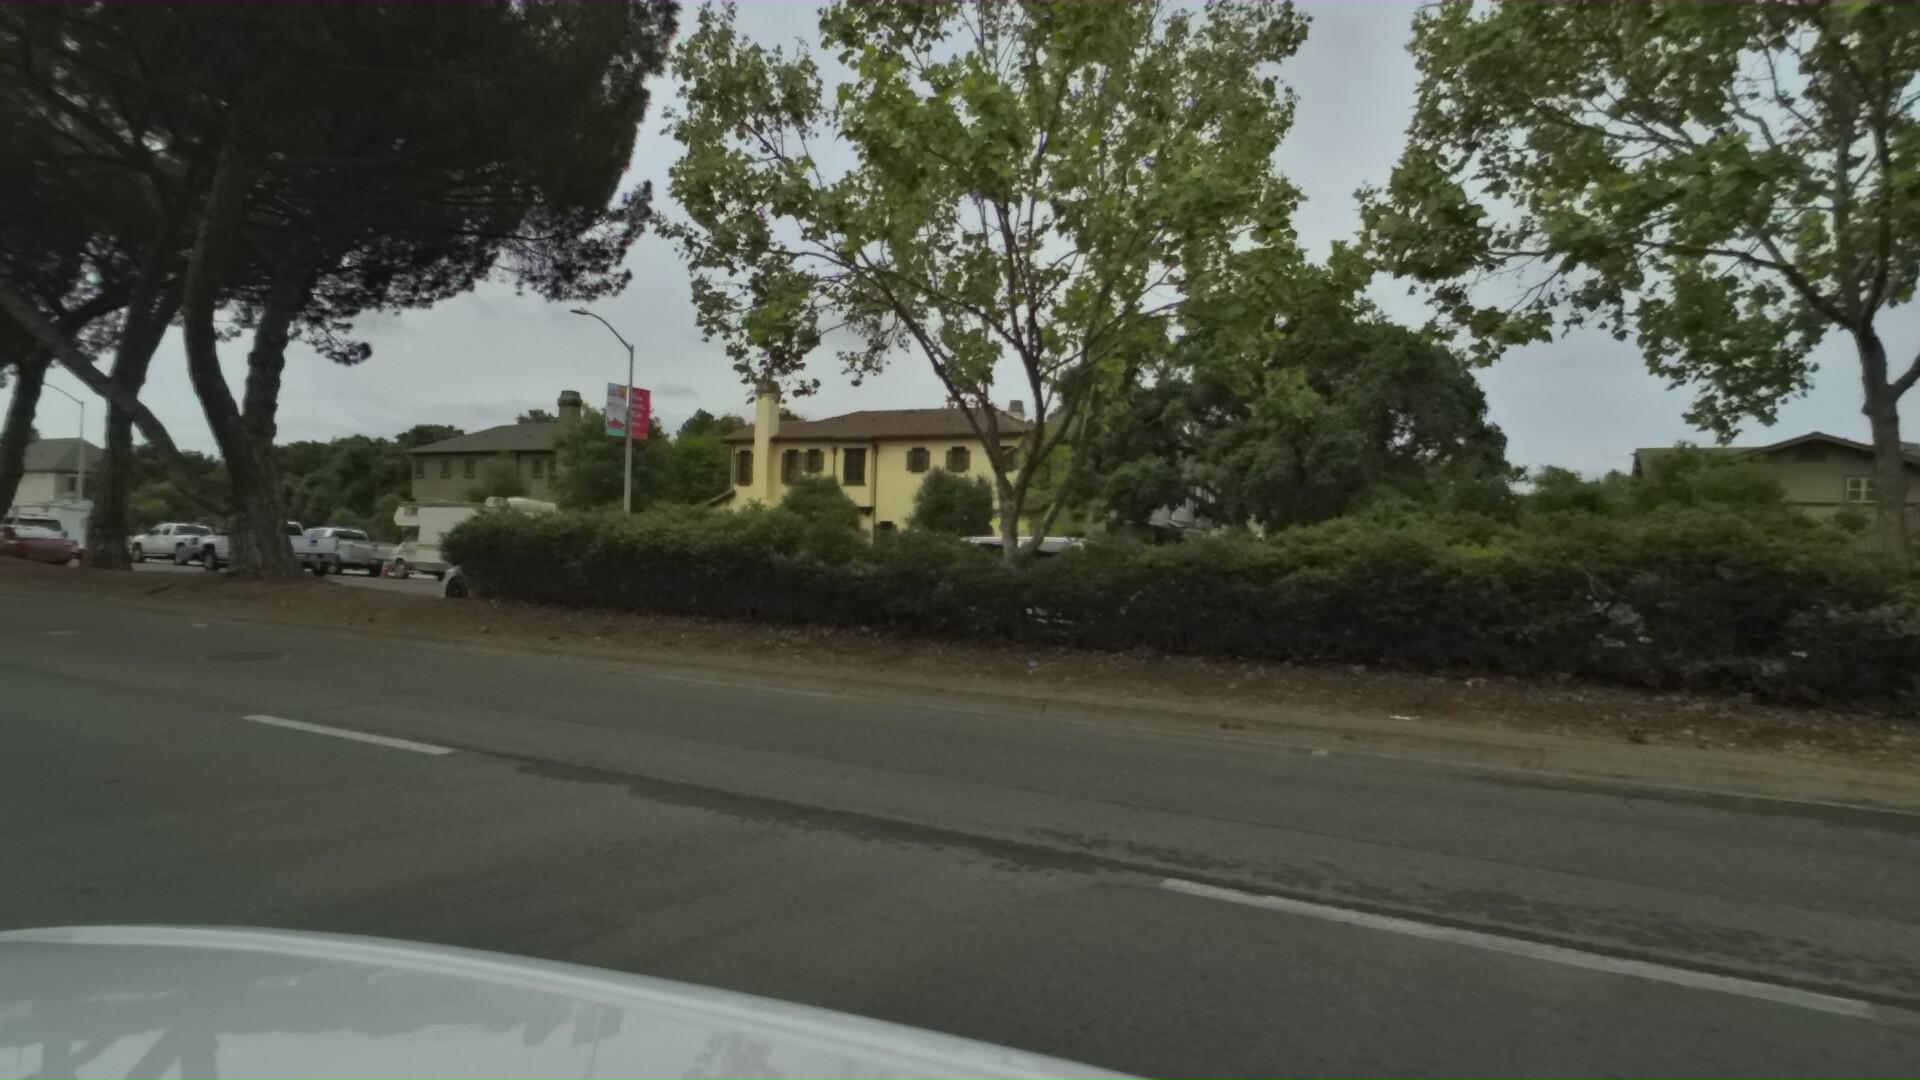car: (872, 529, 1102, 629), (400, 535, 609, 608), (179, 512, 334, 574), (255, 525, 400, 582), (117, 520, 237, 571), (0, 509, 67, 562), (0, 516, 63, 571), (62, 524, 141, 564)
other_vehicle: (367, 496, 585, 593), (1857, 444, 1920, 769), (0, 498, 119, 563)
